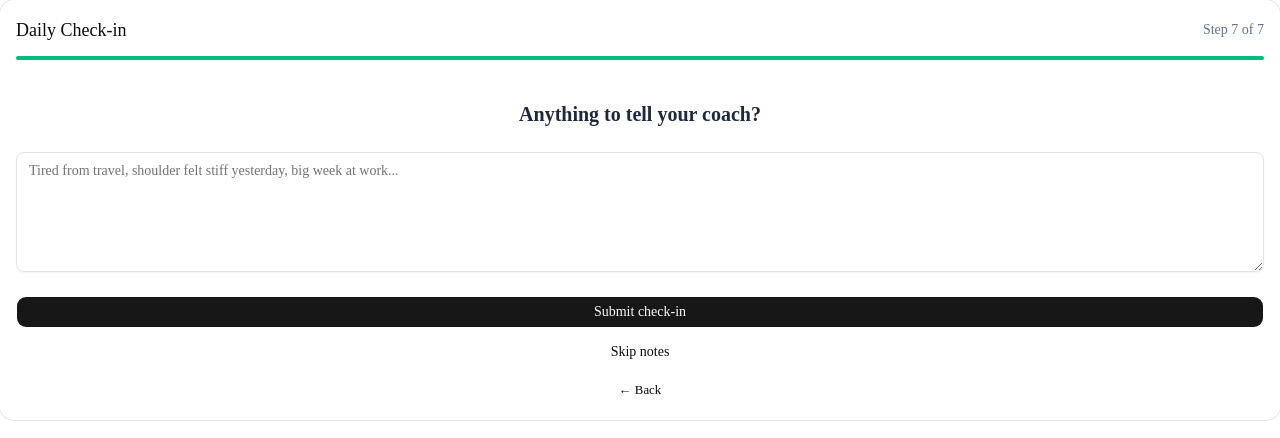
Test: ReadinessForm — submission › shows success state after successful submission
This screenshot has width=1280, height=438.
Click the button "Submit check-in" at (640, 312), box [16, 296, 1264, 328]
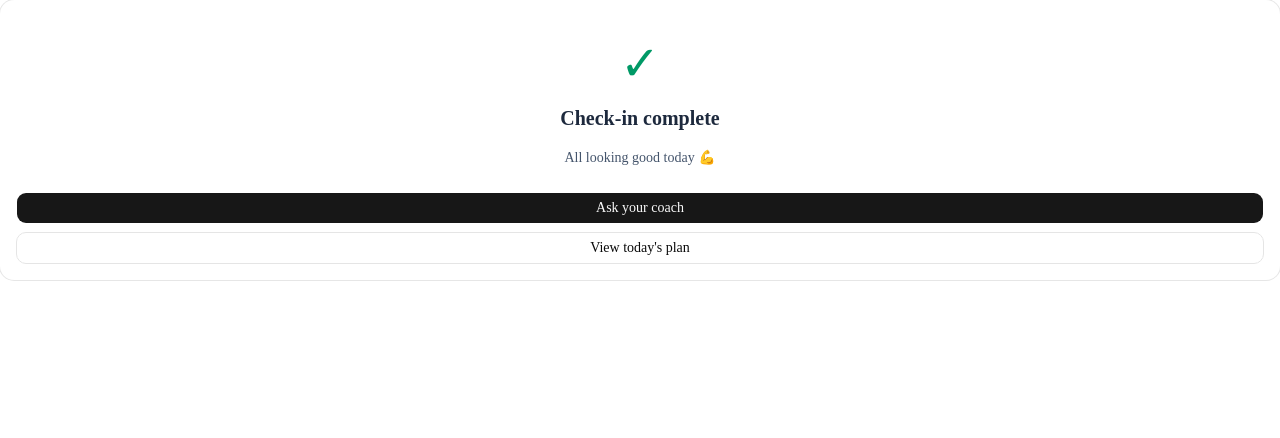
Now the heading "Check-in complete" is shown, box [560, 104, 720, 132]
